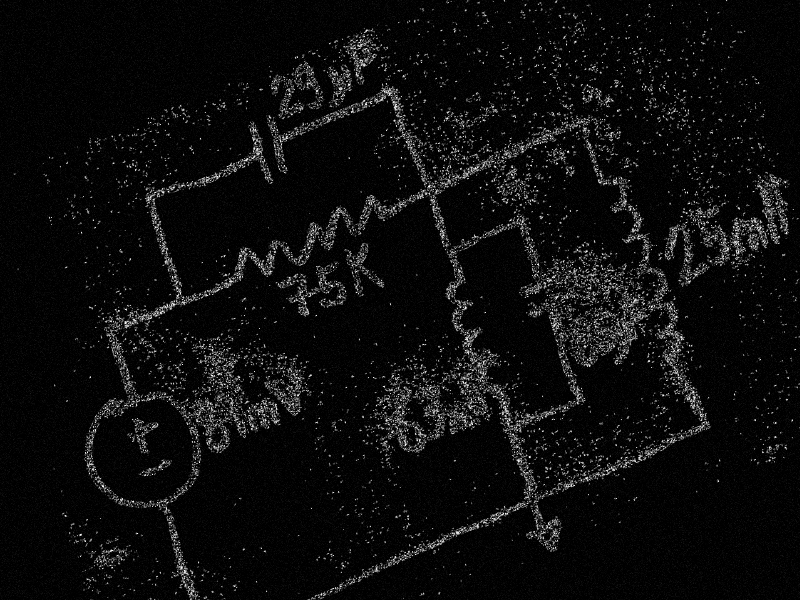2: (657, 214, 713, 295), (263, 67, 307, 126)
3: (413, 381, 455, 446)
5: (689, 200, 736, 275), (311, 256, 354, 317), (589, 309, 620, 358)
6: (382, 380, 431, 461)
7: (270, 264, 326, 334)
8: (190, 393, 237, 465), (563, 310, 603, 373)
9: (289, 53, 332, 116)
F: (344, 34, 384, 88), (620, 296, 651, 345)
H: (753, 173, 794, 246), (461, 384, 493, 429)
V: (270, 363, 315, 421)
k: (338, 234, 390, 305)
m: (229, 391, 285, 443), (724, 207, 773, 266), (443, 405, 475, 437)
u: (323, 59, 360, 108), (610, 317, 637, 362)
